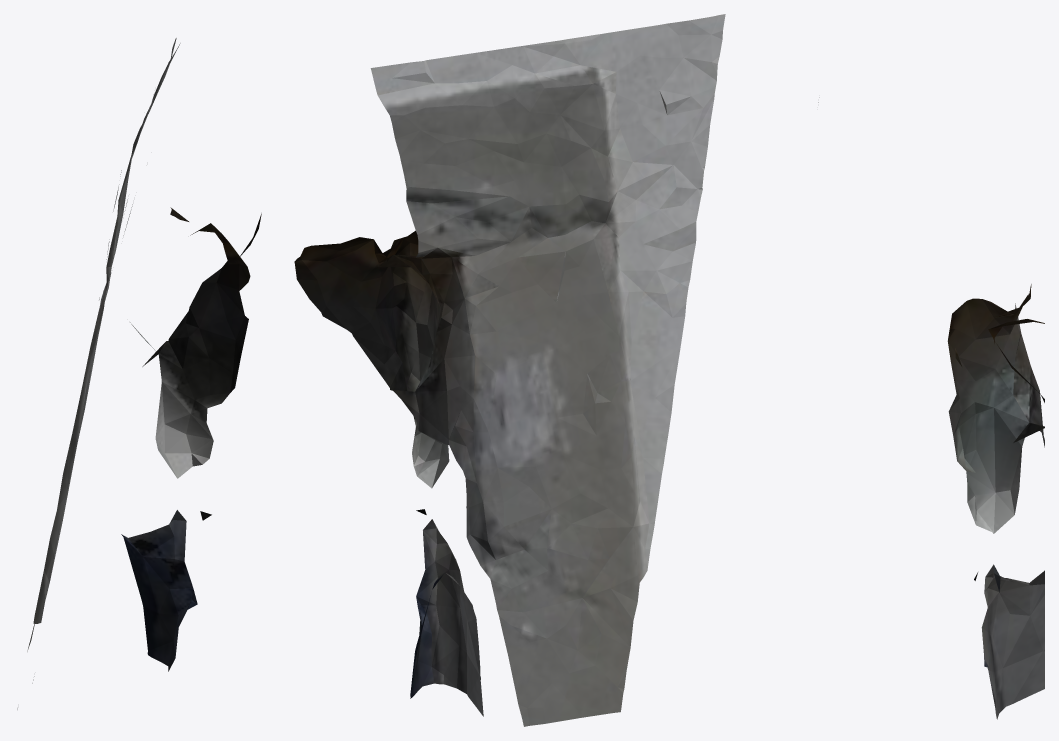
3 renders of one model, left to right at view 1: azimuth 30°, elevation 25°; view 2: azimuth 150°, elevation 25°; view 3: azimuth 270°, elevation 25°, orthographic.
Size of the model in its own units: 0.4048 by 0.8374 by 0.3522.
2 materials, 2 textured.
